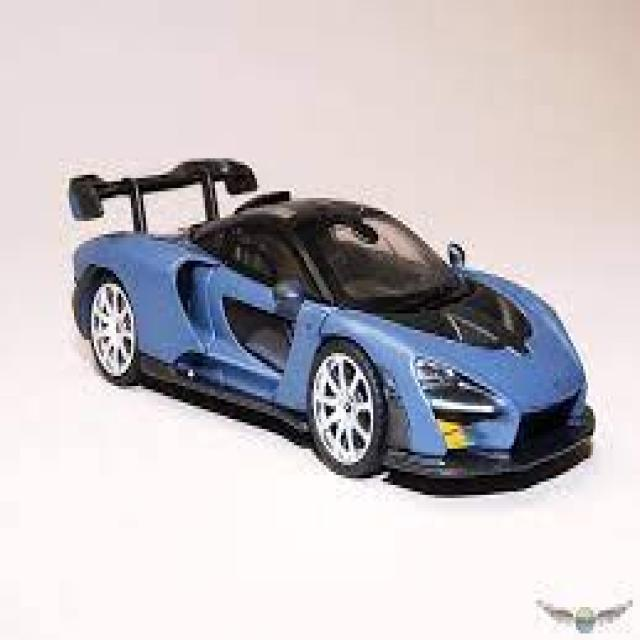Car: (67, 155, 596, 492)
